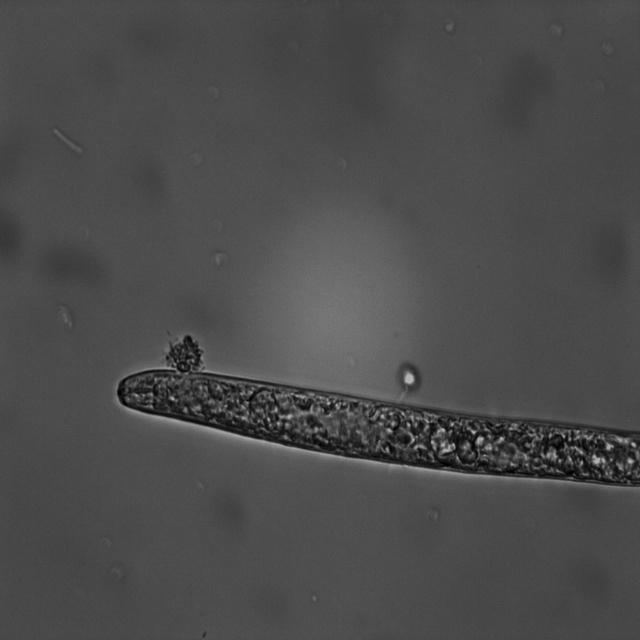Pratylenchus: (113, 364, 640, 493)
